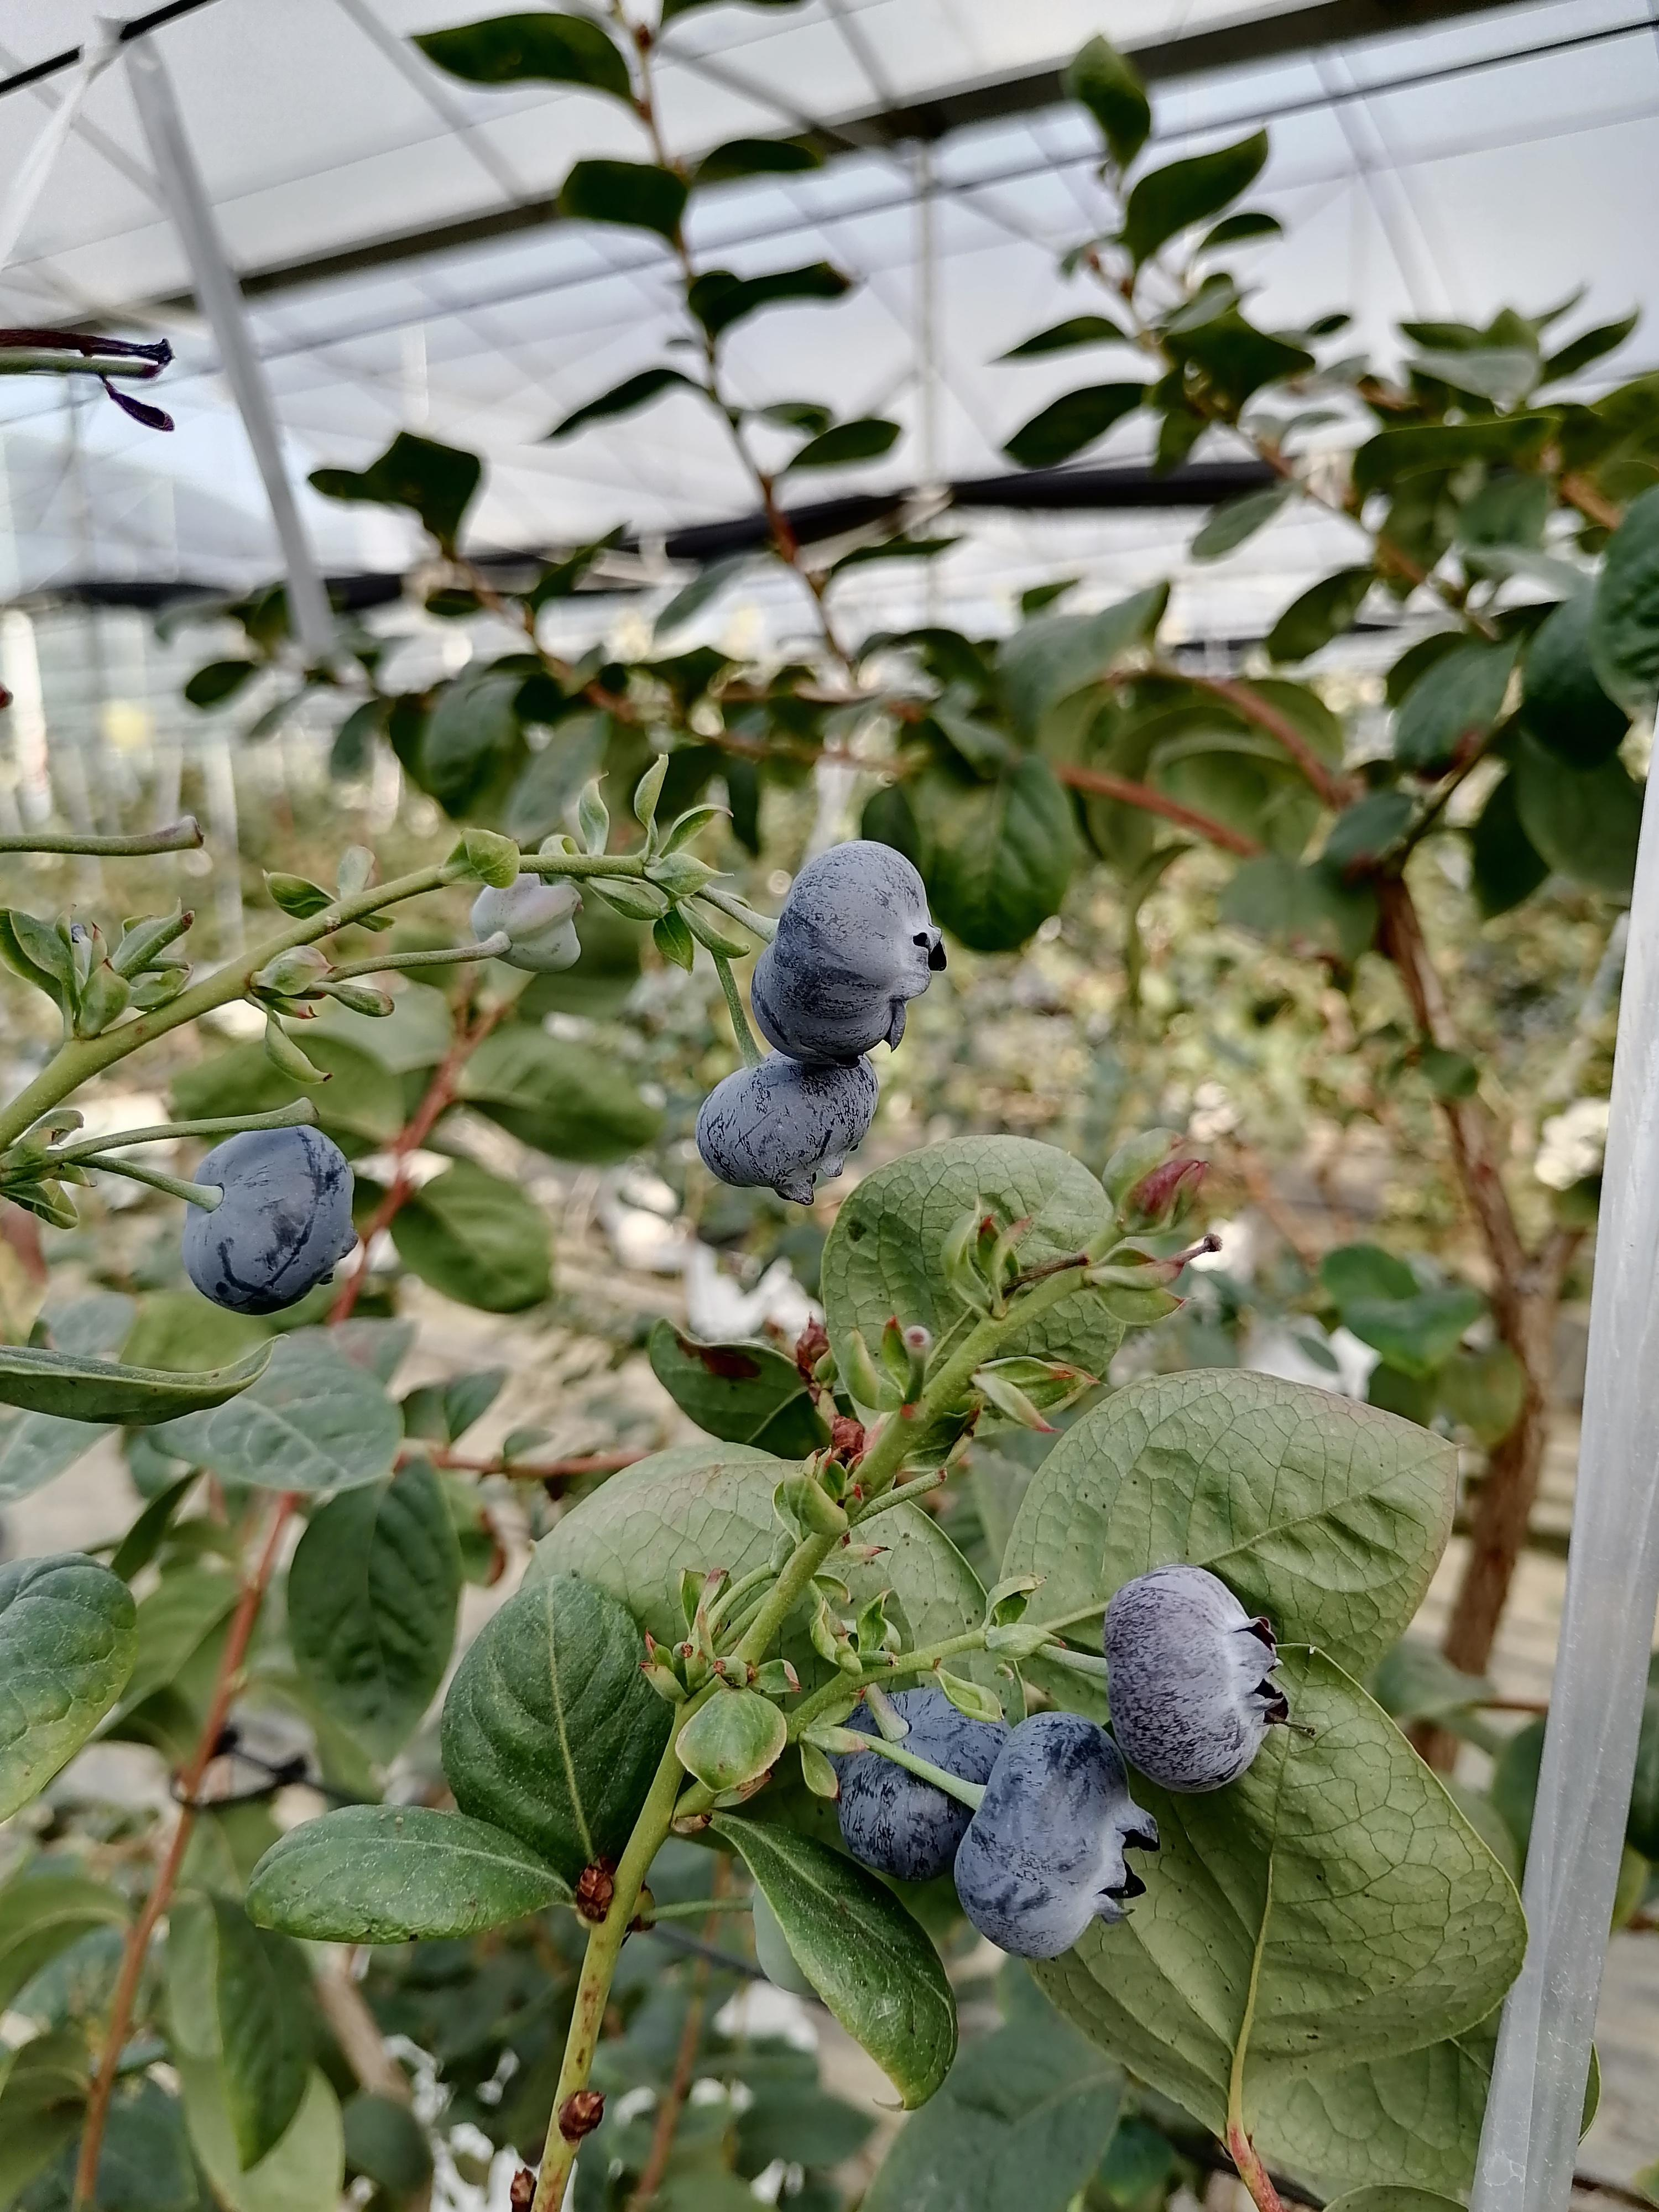ripe-blueberries: (953, 1709, 1161, 1965), (751, 840, 950, 1071), (1101, 1562, 1290, 1796), (823, 1686, 1014, 1883), (181, 1116, 361, 1317), (697, 1050, 882, 1207)
